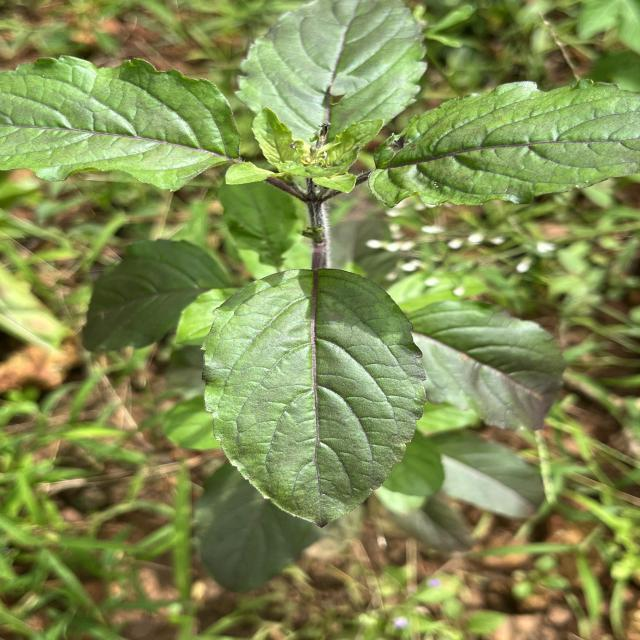Ocimum tenuiflorum: (198, 266, 428, 530)
